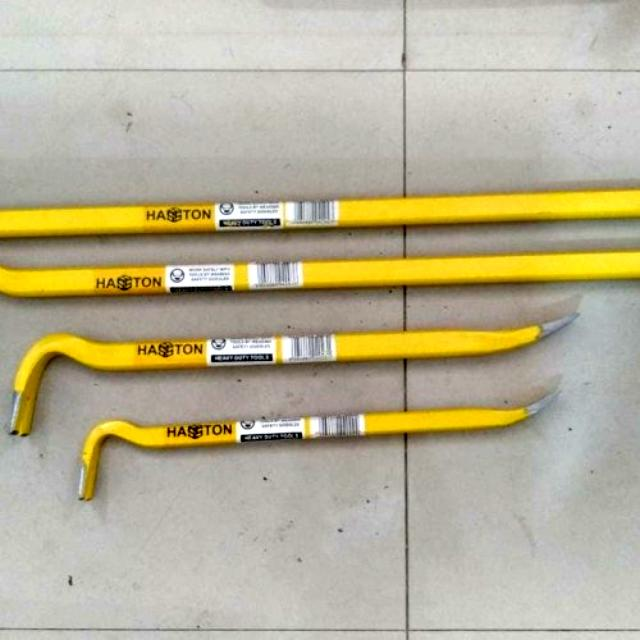crow bar: (9, 317, 580, 444), (75, 397, 555, 502)
